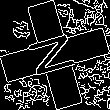N_E: (26, 29, 84, 81)
